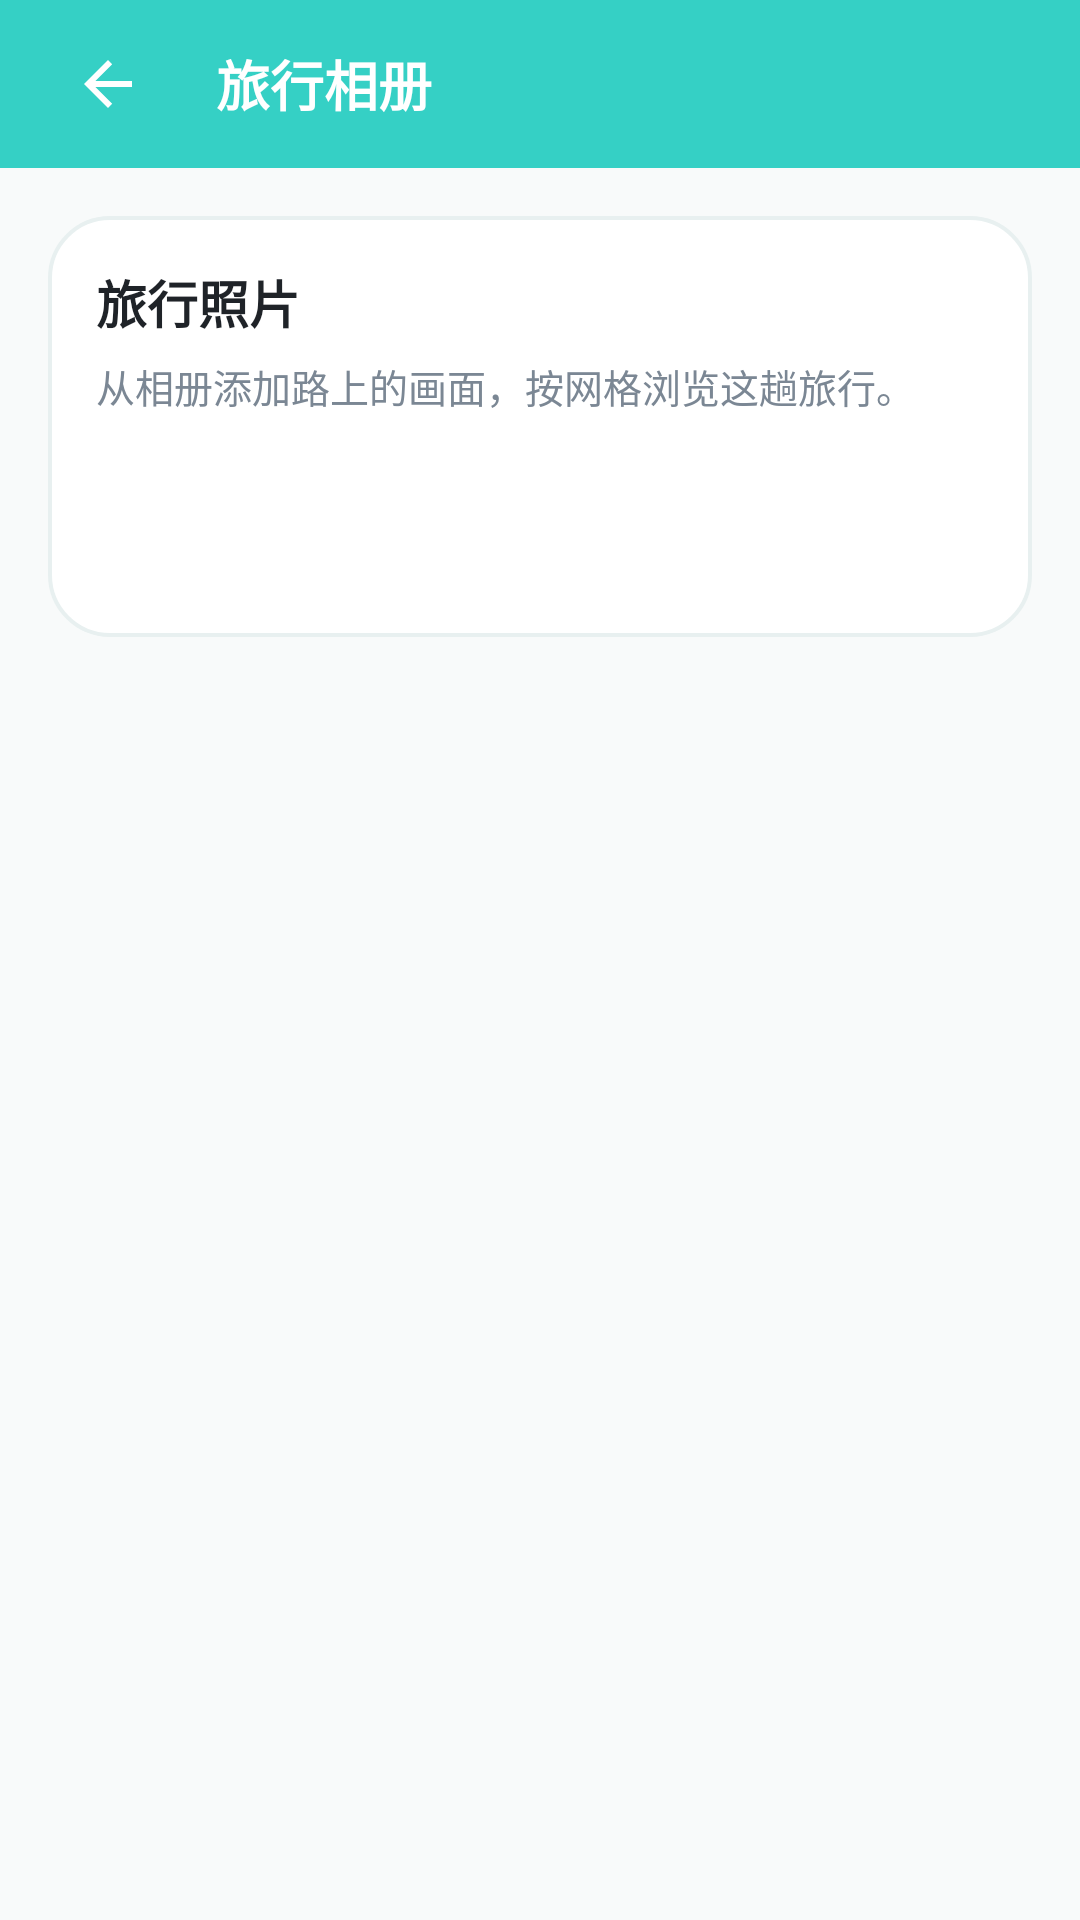

Screen size 1080 x 1920. Icon name, then its box in pixels as (x1, y1, x2, y2):
返回: (84, 60, 132, 108)
